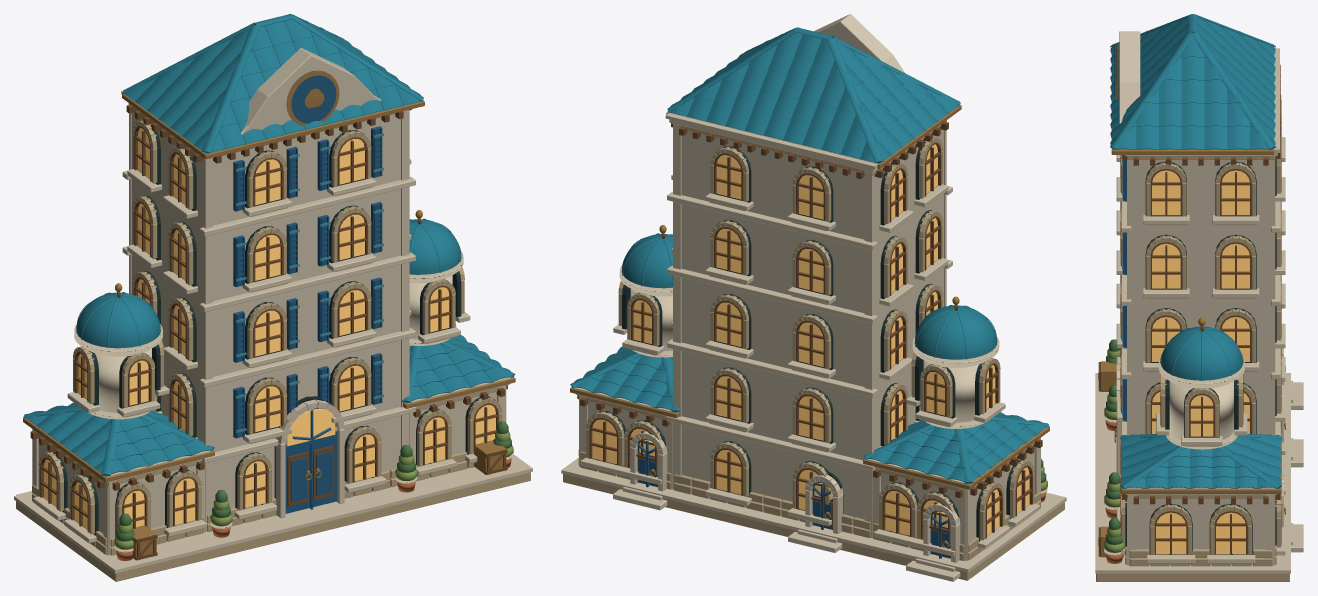
3 renders of one model, left to right at view 1: azimuth 30°, elevation 25°; view 2: azimuth 150°, elevation 25°; view 3: azimuth 270°, elevation 25°, orthographic. The views are drawn at different scales.
Visible parts, largest first — view 1: harbor_finance_3_geometry, harbor_finance_3_geometry ceramic; view 2: harbor_finance_3_geometry, harbor_finance_3_geometry ceramic; view 3: harbor_finance_3_geometry, harbor_finance_3_geometry ceramic.
Part boxes in pixels (<box>): harbor_finance_3_geometry: <box>14,48,532,581</box>; harbor_finance_3_geometry ceramic: <box>23,14,515,476</box>; harbor_finance_3_geometry: <box>561,14,1066,581</box>; harbor_finance_3_geometry ceramic: <box>570,27,1049,484</box>; harbor_finance_3_geometry: <box>1095,31,1303,581</box>; harbor_finance_3_geometry ceramic: <box>1110,14,1282,489</box>.
Bounding box in the file's own units: 2.29 × 2.49 × 1.02.
